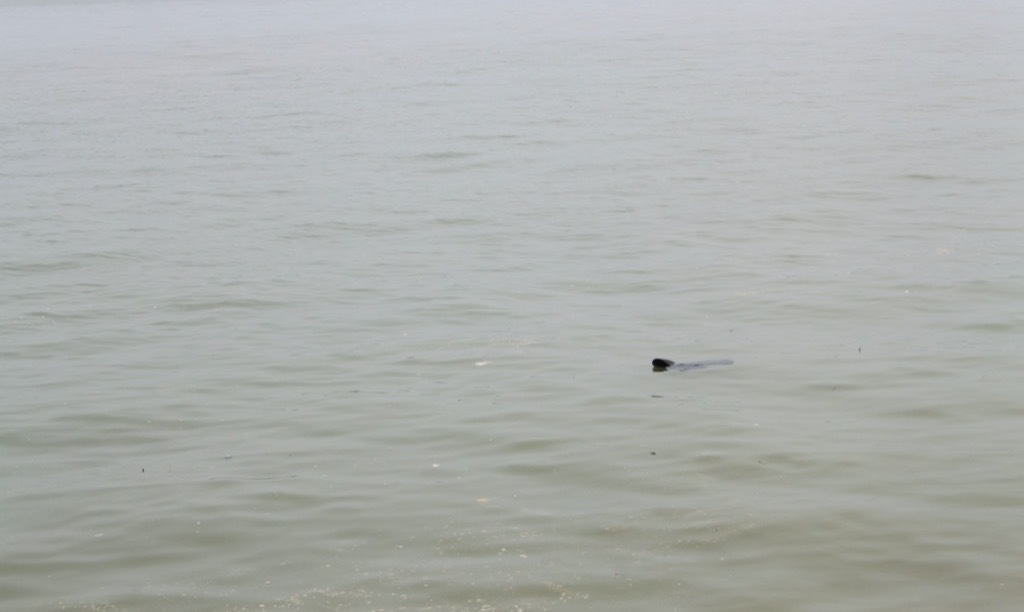organic: (844, 340, 873, 363), (642, 441, 665, 465), (135, 460, 153, 482)
plastic: (637, 341, 759, 388)
